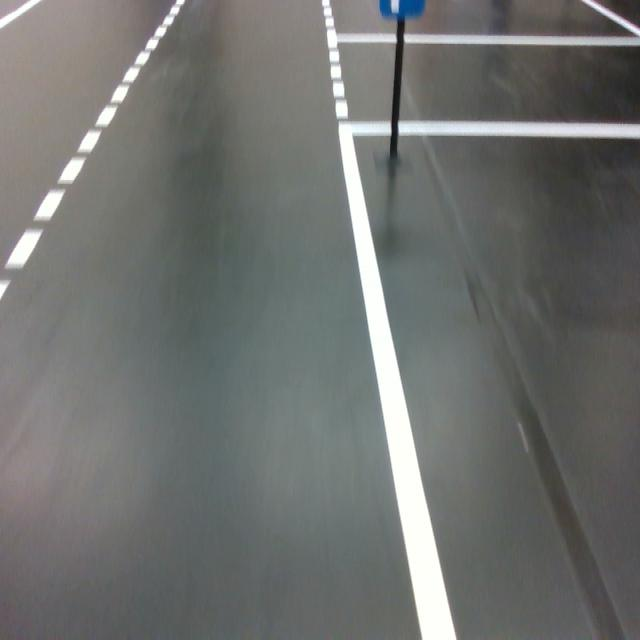parking-sign: (379, 0, 426, 18)
